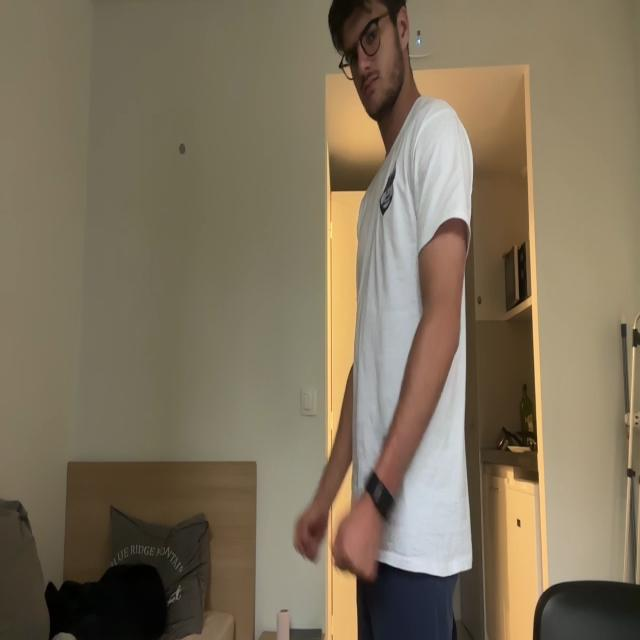elbow: (424, 309, 463, 350)
hand: (332, 480, 382, 586), (295, 487, 327, 563)
shoulder: (416, 108, 471, 210)
